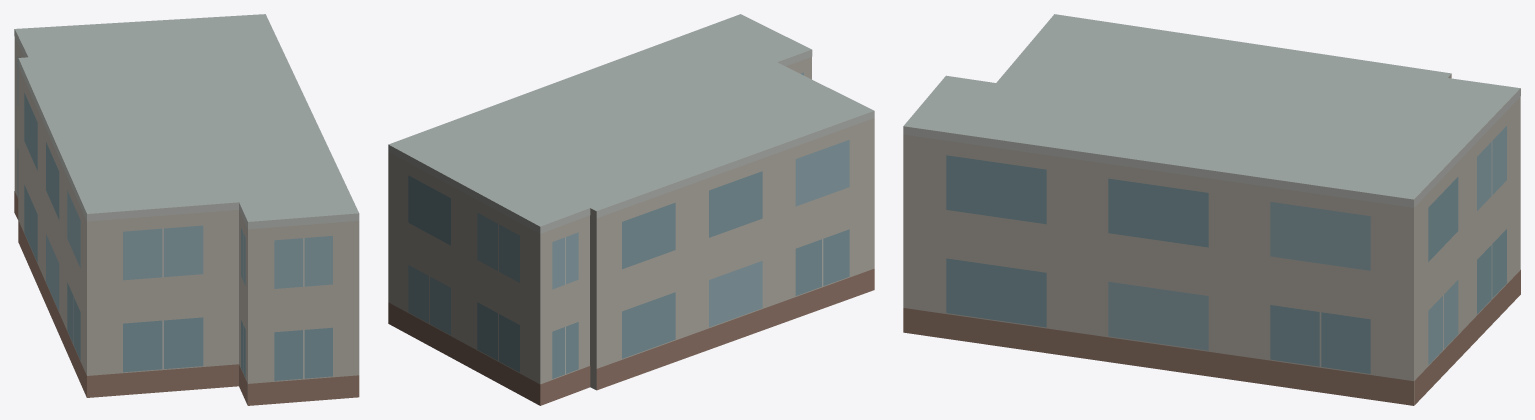
The model's file is survey-upis-32954093.glb.
3 views of the same model, side by side, from view 1: azimuth 30°, elevation 25°; view 2: azimuth 150°, elevation 25°; view 3: azimuth 270°, elevation 25° (orthographic). The views are drawn at different scales.
Parts seen in each view (by area): view 1: survey-upis-32954093.tmp; view 2: survey-upis-32954093.tmp; view 3: survey-upis-32954093.tmp.
Boxes of the visible parts, <box> form: survey-upis-32954093.tmp: <box>14,14,359,405</box>; survey-upis-32954093.tmp: <box>388,14,874,405</box>; survey-upis-32954093.tmp: <box>903,14,1520,405</box>.
Bounding box in the file's own units: 11.78 × 6.1 × 16.55.
